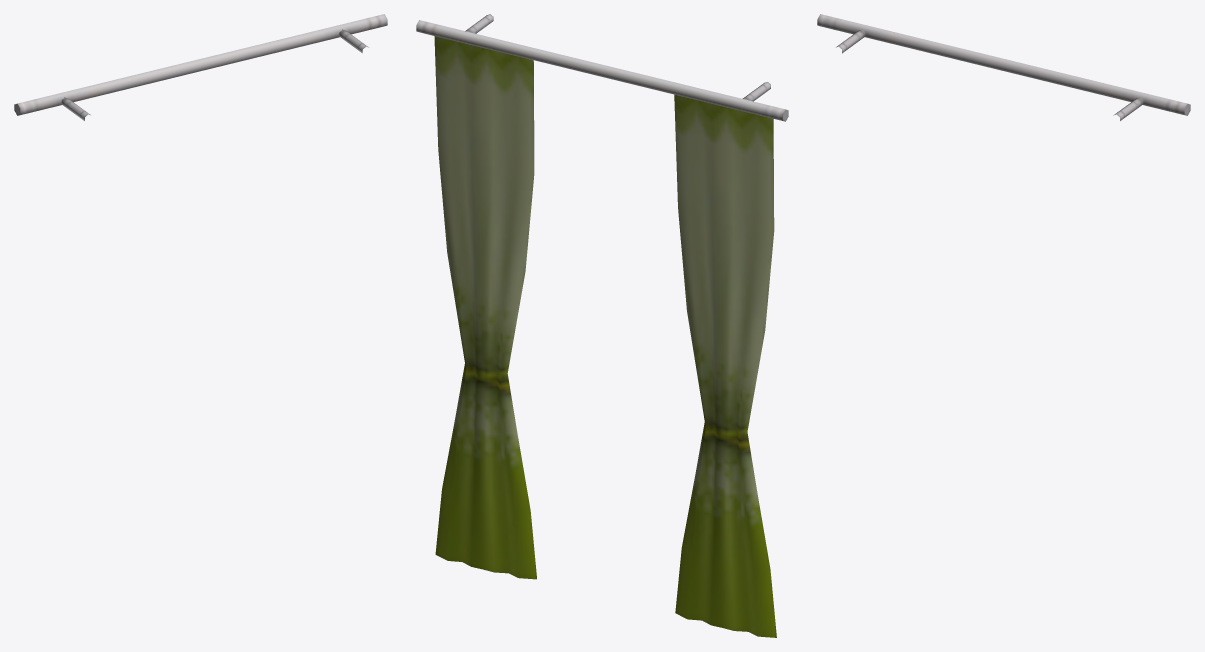
File: Curtain_02.gltf
3 renders of one model, left to right at view 1: azimuth 30°, elevation 25°; view 2: azimuth 150°, elevation 25°; view 3: azimuth 330°, elevation 25°, orthographic.
Visible parts, largest first — view 1: Curtain_02; view 2: Curtain_02; view 3: Curtain_02.
Part boxes in pixels (x1=…): Curtain_02: x1=14, y1=14, x2=387, y2=120; Curtain_02: x1=416, y1=14, x2=788, y2=637; Curtain_02: x1=817, y1=14, x2=1190, y2=120.
Bounding box in the file's own units: 46.45 × 64.69 × 6.44.
1 material, 1 textured.
